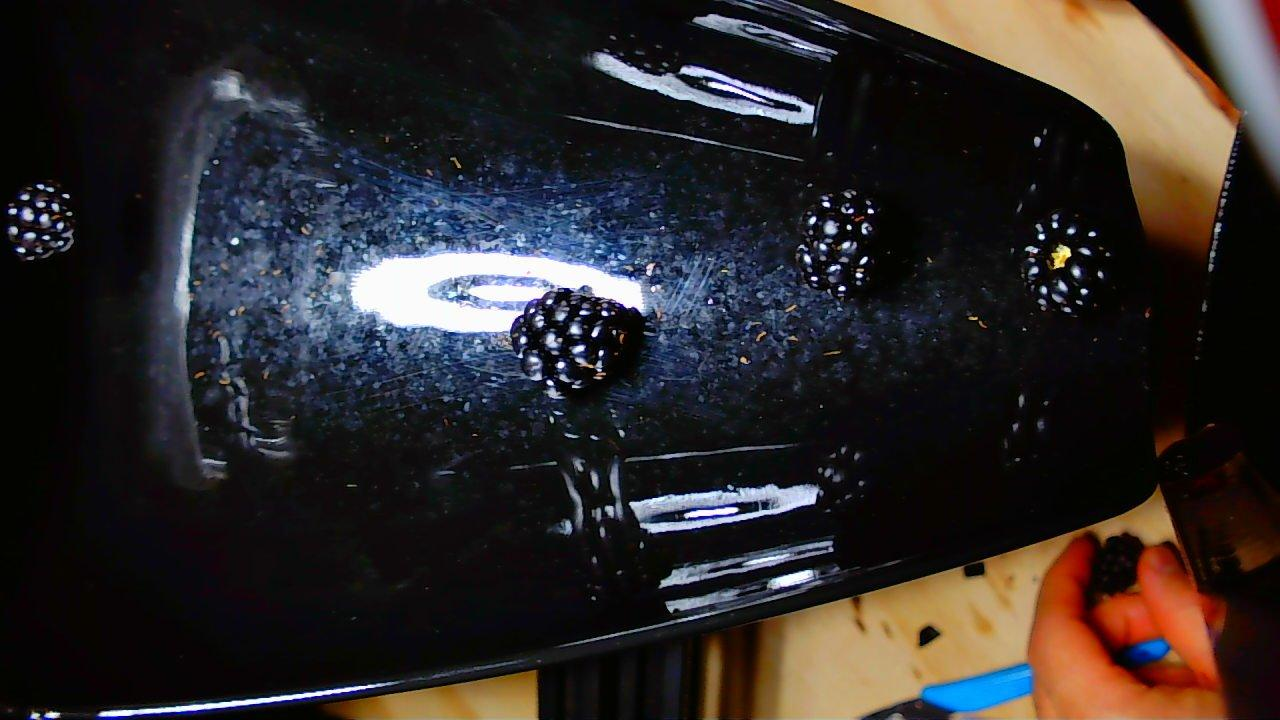berry: (510, 288, 642, 391), (794, 189, 896, 299), (1022, 210, 1123, 316), (6, 183, 73, 258)
